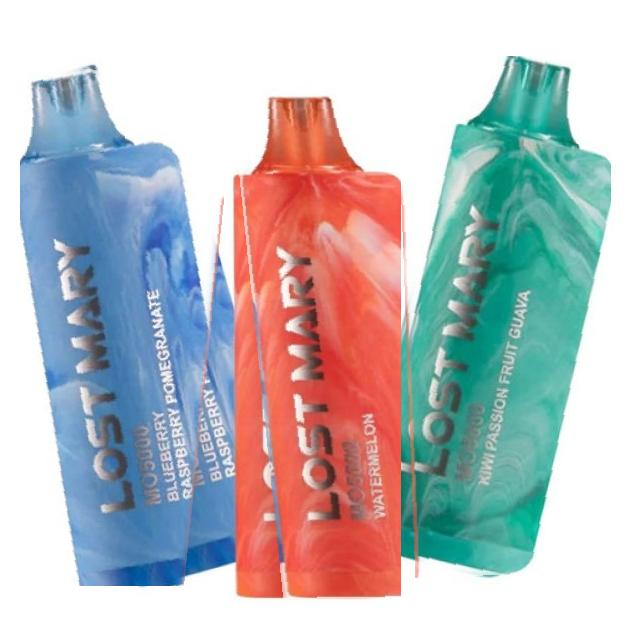Vapes: (20, 62, 236, 586), (396, 56, 611, 578), (231, 95, 401, 599)
